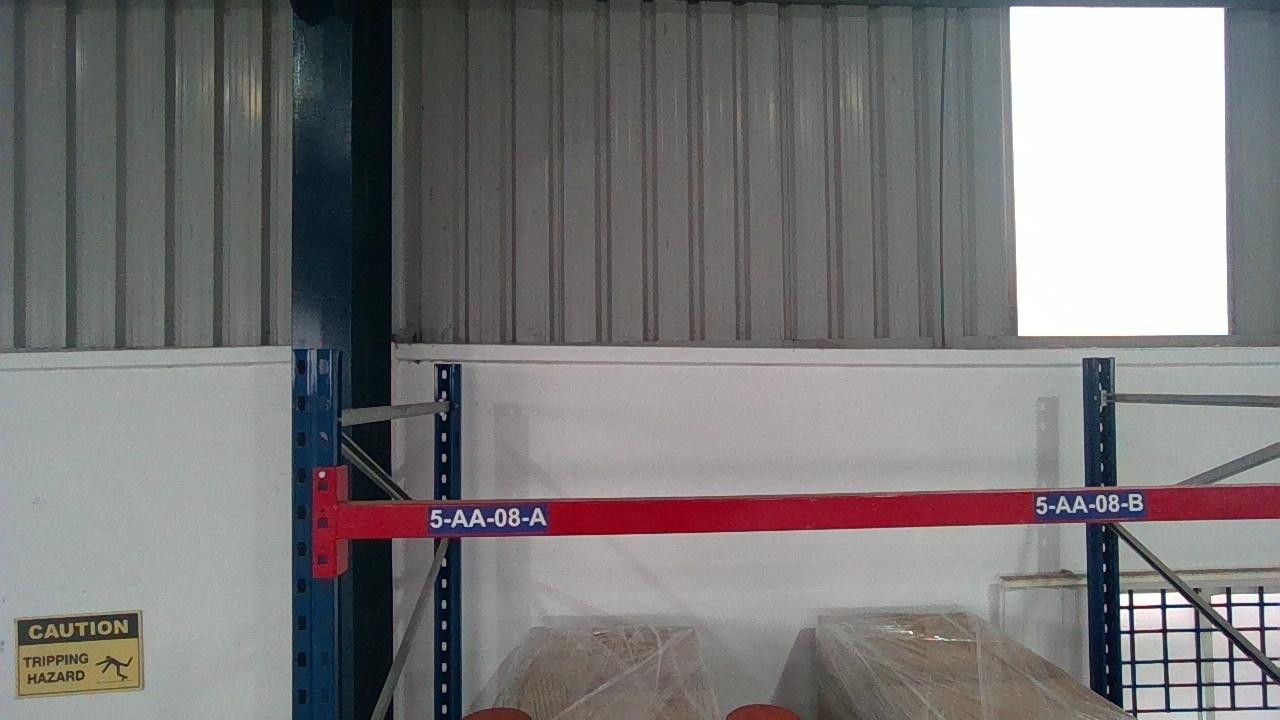h_rack: (342, 496, 1279, 529)
